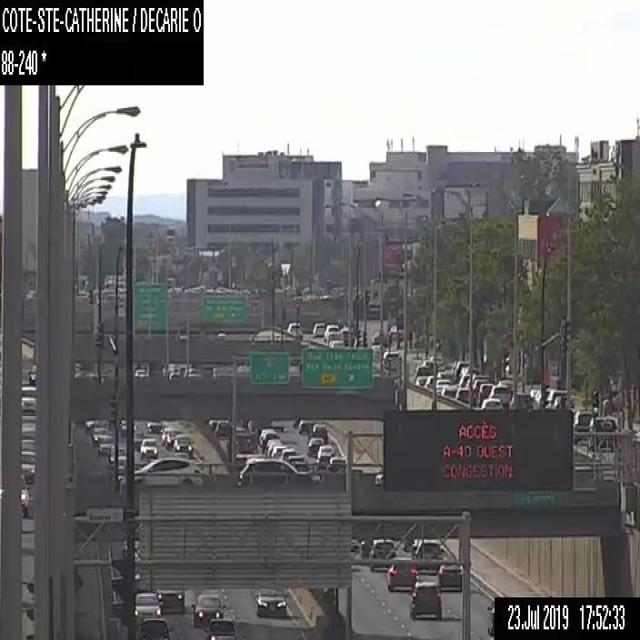vehicle: (238, 458, 319, 486), (134, 458, 202, 486), (409, 581, 441, 620), (190, 593, 225, 627), (386, 556, 418, 591), (588, 415, 617, 450), (414, 538, 443, 572), (254, 588, 285, 618), (368, 539, 396, 570), (134, 592, 162, 616), (157, 589, 185, 613), (573, 410, 593, 443), (205, 618, 237, 638), (136, 618, 168, 638), (437, 564, 461, 590), (207, 416, 232, 439), (171, 434, 194, 456), (21, 449, 35, 484), (21, 385, 37, 415), (489, 384, 509, 404), (382, 350, 401, 371), (260, 431, 278, 453), (508, 392, 531, 409), (316, 444, 334, 465), (546, 389, 567, 407), (310, 424, 328, 444), (140, 437, 158, 457), (466, 373, 489, 388), (305, 437, 323, 456), (160, 426, 177, 446), (20, 475, 28, 516), (108, 447, 126, 465), (264, 438, 282, 456), (119, 419, 138, 436), (326, 456, 346, 472), (478, 382, 492, 404), (454, 387, 472, 404), (323, 324, 339, 343), (473, 378, 487, 399), (91, 426, 107, 444), (413, 365, 428, 384), (145, 419, 165, 433), (165, 430, 180, 448), (97, 435, 112, 453), (480, 398, 502, 410), (388, 324, 404, 340), (327, 330, 342, 347), (298, 419, 314, 434), (454, 361, 468, 378), (429, 355, 444, 370), (498, 380, 514, 394), (285, 321, 301, 335), (422, 360, 437, 374), (271, 445, 287, 458), (440, 386, 457, 398), (28, 363, 37, 384), (312, 322, 325, 336), (267, 442, 279, 457), (434, 380, 452, 390), (279, 448, 295, 459), (436, 370, 452, 380), (458, 374, 468, 386), (451, 360, 456, 372)
